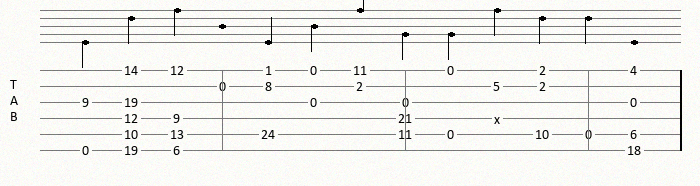0: (82, 144, 93, 157), (219, 80, 230, 93), (310, 96, 321, 109), (310, 64, 321, 77), (402, 96, 413, 109), (447, 64, 458, 77), (447, 128, 458, 141), (585, 128, 596, 141), (630, 96, 641, 109)
1: (265, 64, 276, 77)
10: (124, 128, 142, 141), (535, 128, 553, 141)
11: (353, 64, 371, 77), (398, 128, 416, 141)
12: (124, 112, 142, 125), (170, 64, 188, 77)
13: (170, 128, 188, 141)
14: (124, 64, 142, 77)
18: (627, 144, 645, 157)
19: (124, 144, 142, 157), (124, 96, 142, 109)
2: (356, 80, 367, 93), (539, 80, 550, 93), (539, 64, 550, 77)
21: (398, 112, 416, 125)
24: (261, 128, 279, 141)
4: (630, 64, 641, 77)
5: (493, 80, 504, 93)
6: (173, 144, 184, 157), (630, 128, 641, 141)
8: (265, 80, 276, 93)
9: (82, 96, 93, 109), (173, 112, 184, 125)
x: (494, 113, 504, 124)
